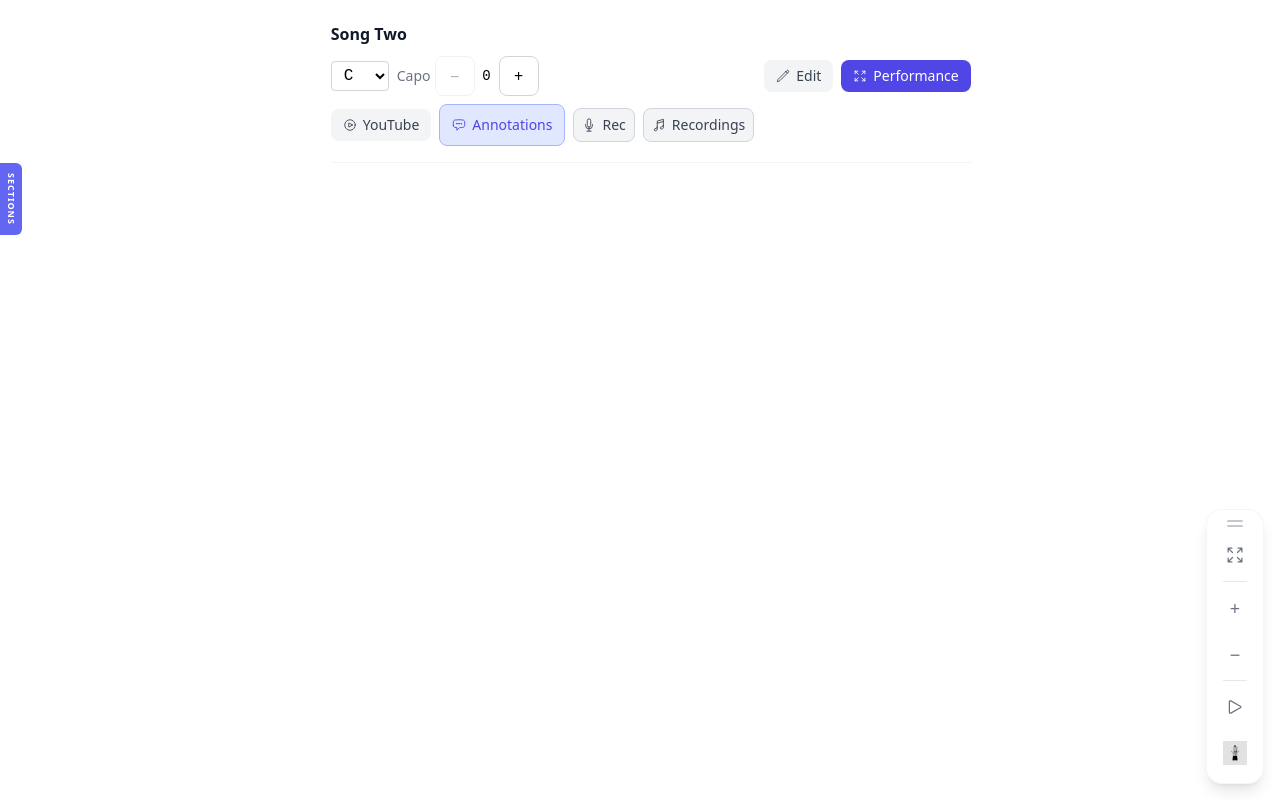
MainContent pagination when swiping across songs with different baseline page counts › resets to page 1 when swiping forward off the last page into a shorter song
Click the button named "Fit song to screen": (1235, 555) [1213, 533, 1257, 577]
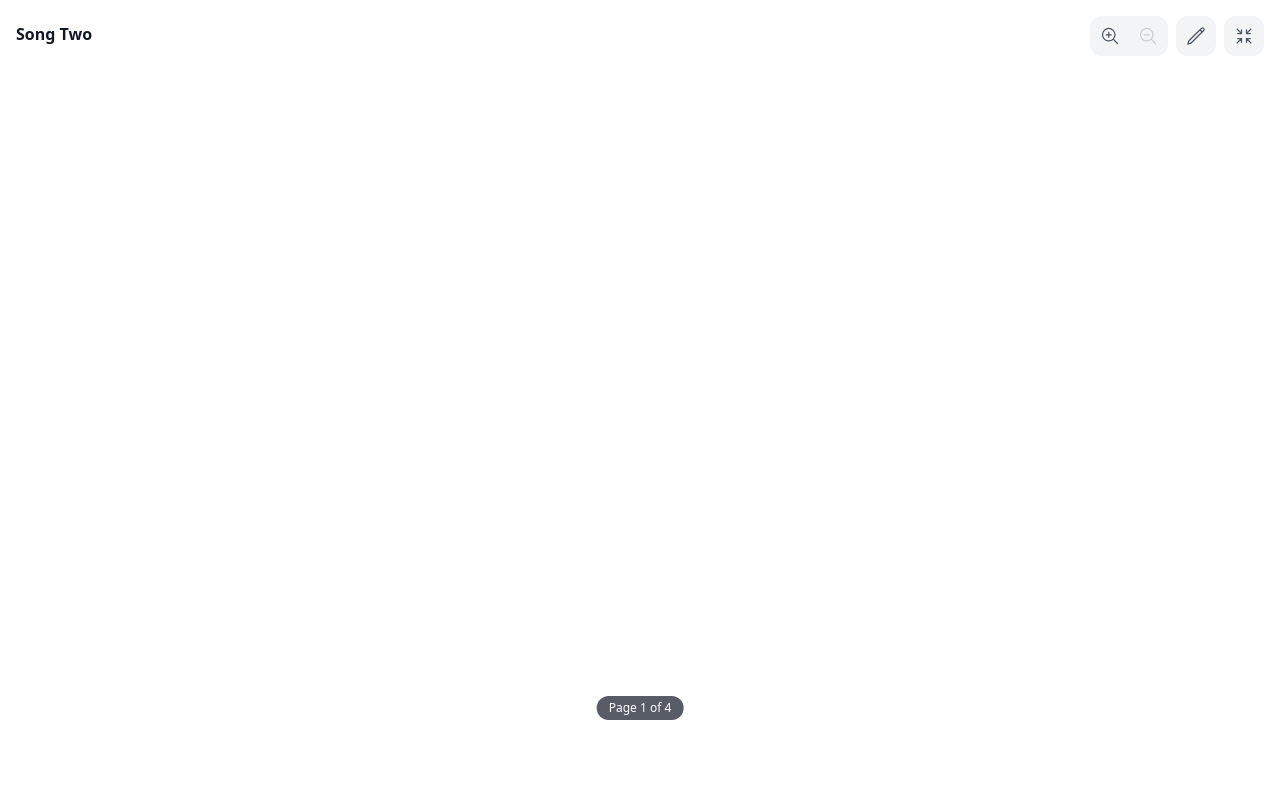
expect the text with test id "page-indicator" reads "Page 1 of 4": met, box [597, 696, 683, 720]
Press ArrowRight
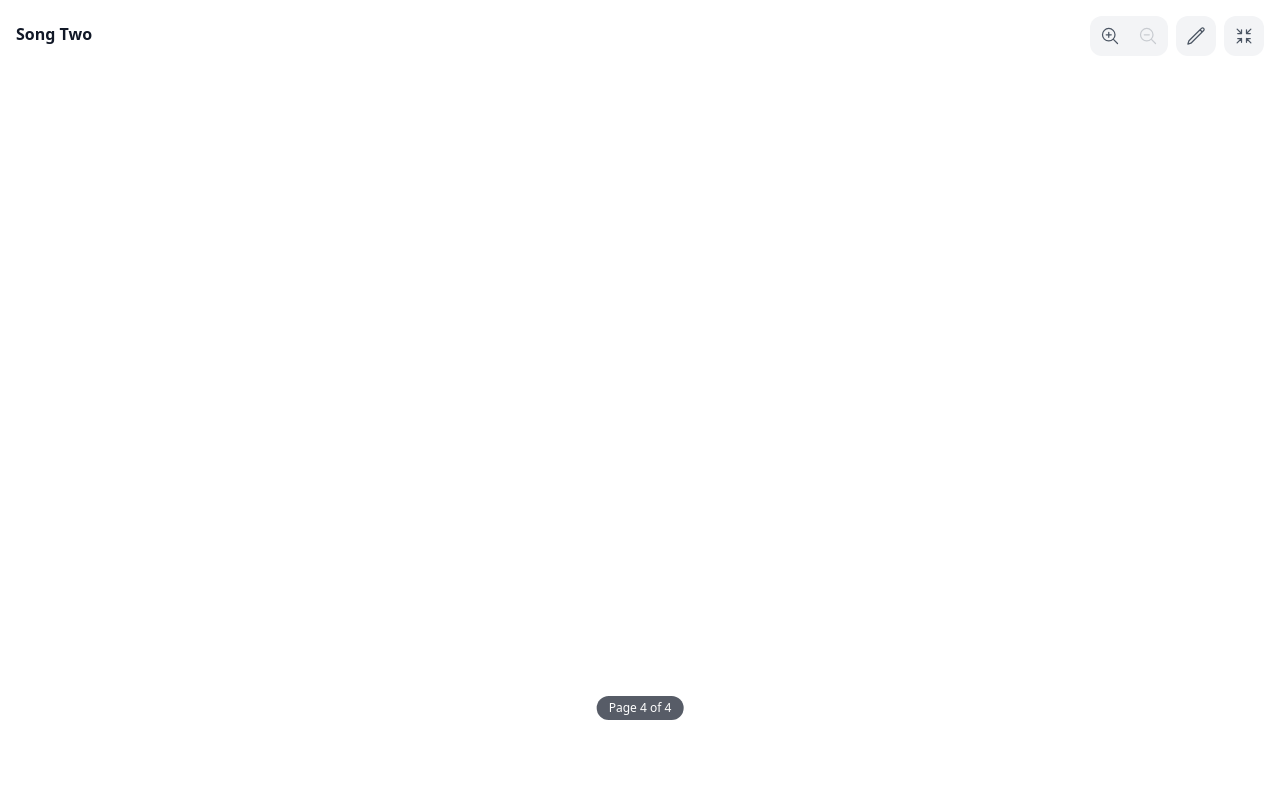
expect the text with test id "page-indicator" reads "Page 4 of 4": met, box [597, 696, 683, 720]
Press ArrowRight
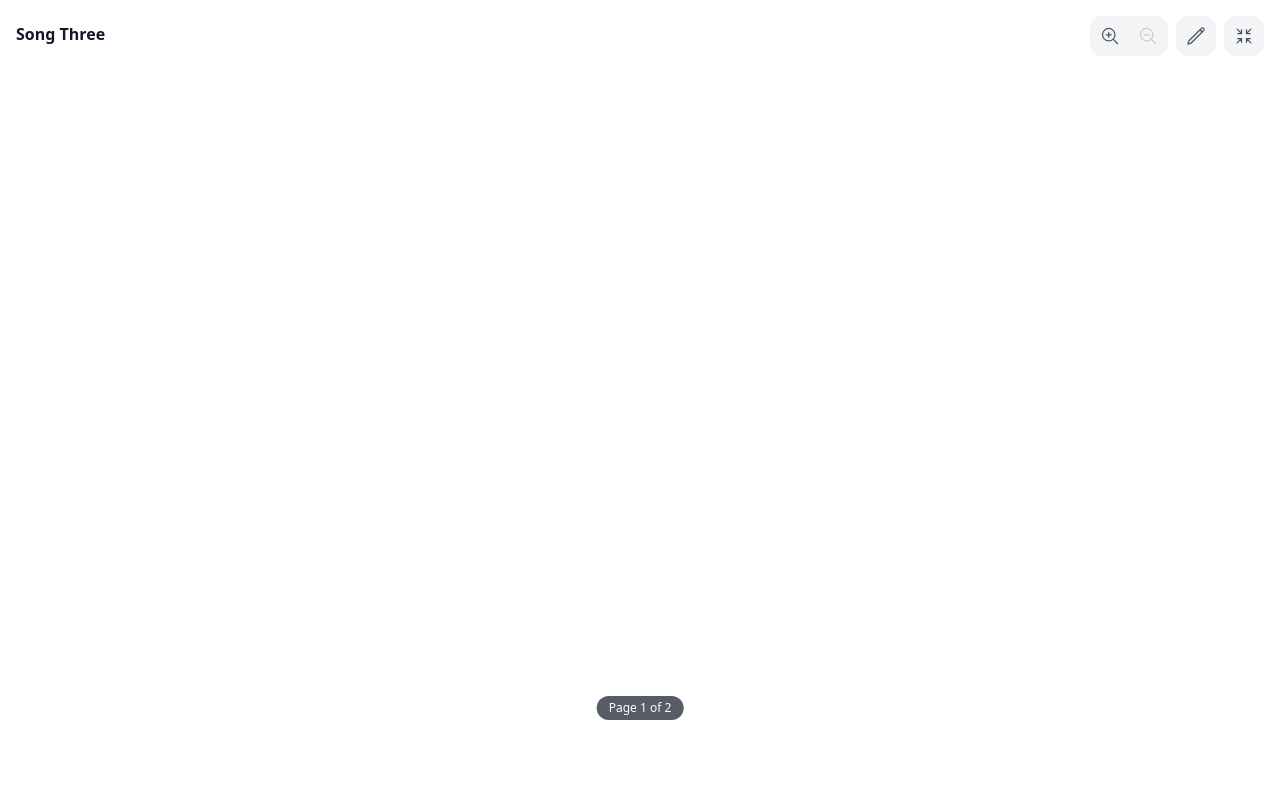
expect the text with test id "page-indicator" reads "Page 1 of 2": met, box [597, 696, 683, 720]
